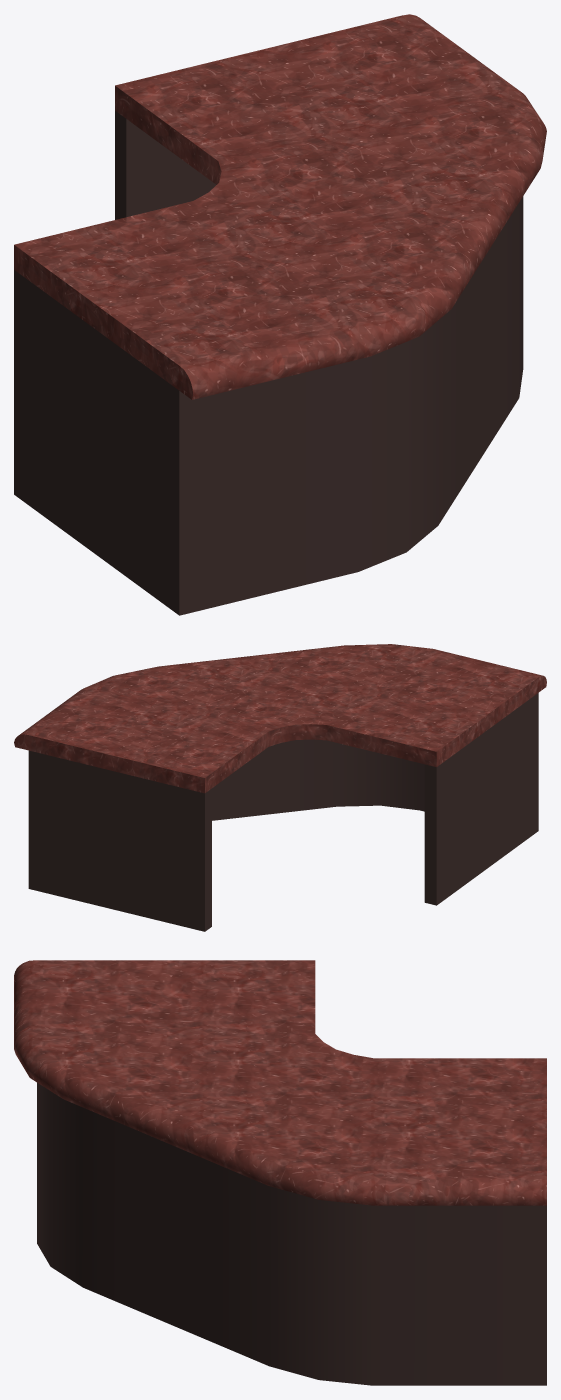
File: counterCornerRound.gltf
The picture shows the model from 3 angles, top to bottom: view 1: azimuth 30°, elevation 25°; view 2: azimuth 150°, elevation 25°; view 3: azimuth 270°, elevation 25°; orthographic projection. The views are drawn at different scales.
Parts seen in each view (by area): view 1: counterCornerRound; view 2: counterCornerRound; view 3: counterCornerRound.
Part boxes in pixels (left/top/right/bottom): counterCornerRound: left=14, top=14, right=546, bottom=615; counterCornerRound: left=14, top=644, right=546, bottom=931; counterCornerRound: left=14, top=960, right=546, bottom=1385.
Bounding box in the file's own units: 2.3 × 1 × 2.3.
2 materials, 1 textured.
